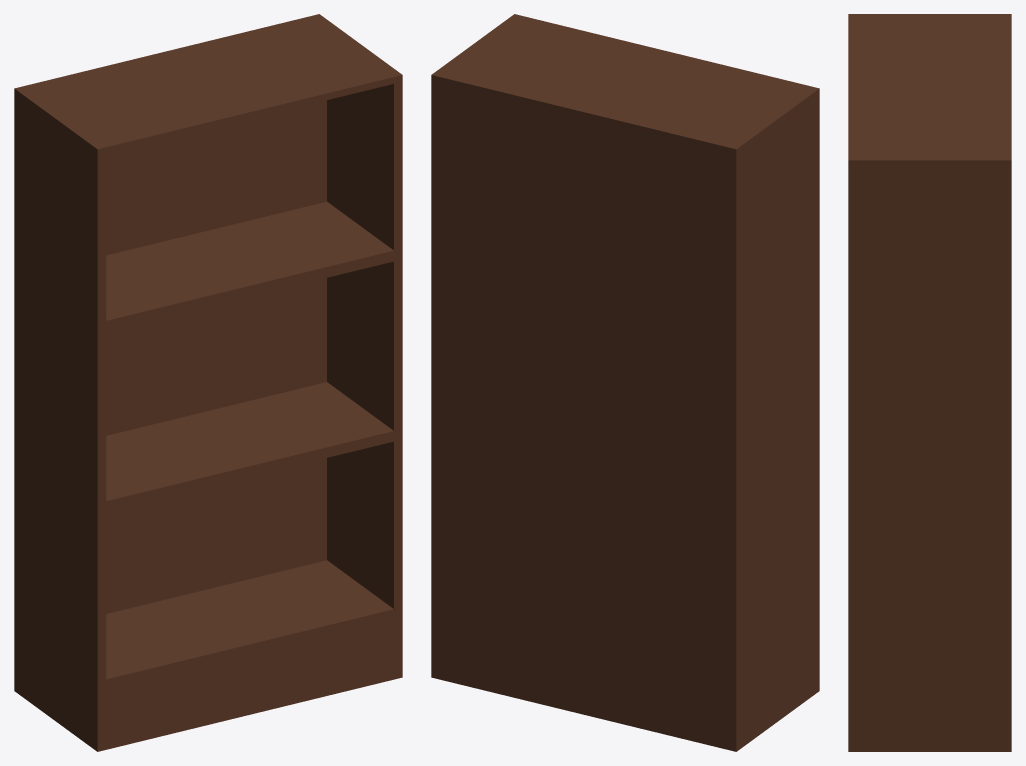
The model's file is Furniture_03.fbx.
3 renders of one model, left to right at view 1: azimuth 30°, elevation 25°; view 2: azimuth 150°, elevation 25°; view 3: azimuth 270°, elevation 25°, orthographic.
Parts seen in each view (by area): view 1: Furniture_03; view 2: Furniture_03; view 3: Furniture_03.
Part boxes in pixels (x1=…): Furniture_03: x1=14, y1=14, x2=402, y2=751; Furniture_03: x1=431, y1=14, x2=819, y2=751; Furniture_03: x1=848, y1=14, x2=1011, y2=751.
Size of the model in its own units: 57.94 by 109 by 27.38.
